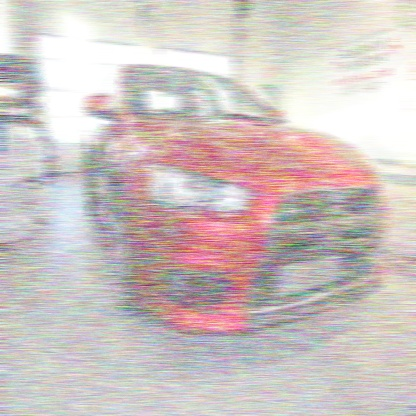Vehicle: (83, 62, 395, 342)
